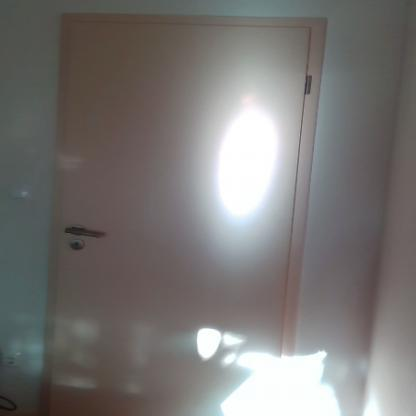door: (61, 20, 292, 416)
hinged: (302, 68, 310, 96)
lever: (65, 223, 107, 242)
